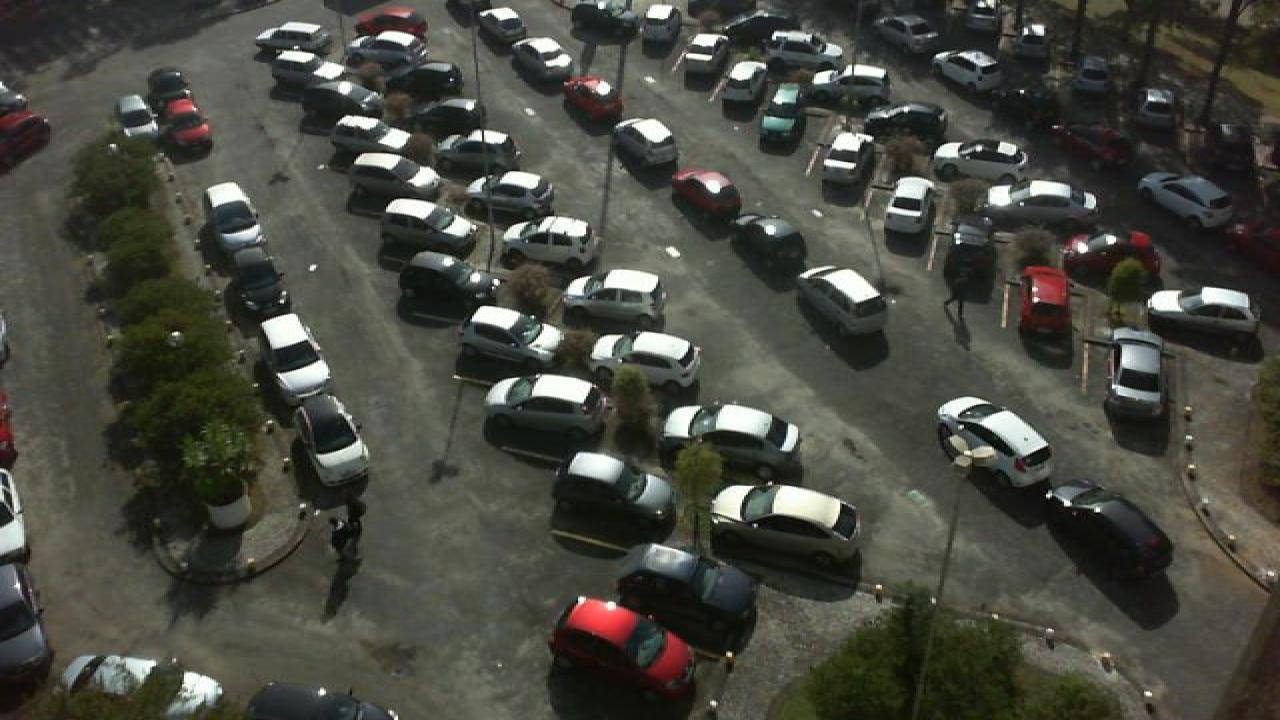Car: (544, 595, 698, 702), (616, 540, 760, 651), (1042, 476, 1176, 583), (706, 480, 866, 562), (56, 652, 226, 720), (934, 395, 1056, 487), (548, 449, 678, 532), (658, 399, 804, 470), (480, 372, 606, 441), (290, 393, 372, 488), (454, 302, 566, 366), (586, 330, 702, 390), (256, 312, 336, 397), (1142, 286, 1262, 342), (796, 263, 890, 333), (246, 678, 398, 720), (560, 267, 668, 324), (1102, 328, 1168, 418), (392, 247, 494, 305), (1136, 170, 1234, 226), (1060, 226, 1164, 277), (372, 196, 480, 245), (980, 178, 1100, 222), (500, 214, 598, 264), (350, 150, 446, 198), (226, 243, 290, 312), (732, 215, 810, 271), (1016, 264, 1076, 336), (932, 138, 1030, 182), (202, 180, 262, 251), (322, 112, 414, 158), (470, 170, 558, 218), (804, 62, 892, 103), (670, 169, 744, 217), (438, 127, 518, 171), (612, 117, 682, 167), (818, 130, 880, 186), (864, 102, 952, 139), (932, 48, 1006, 92), (884, 176, 938, 234), (754, 28, 842, 63), (510, 35, 574, 83), (380, 58, 464, 94), (298, 76, 382, 112), (756, 81, 808, 139), (562, 74, 624, 120), (682, 36, 734, 89), (874, 11, 942, 51), (158, 99, 214, 147), (412, 98, 488, 133), (350, 28, 426, 63), (274, 51, 354, 83), (250, 21, 326, 54), (110, 92, 162, 138), (352, 6, 428, 36), (476, 6, 528, 45), (638, 3, 682, 48), (148, 66, 194, 104)
